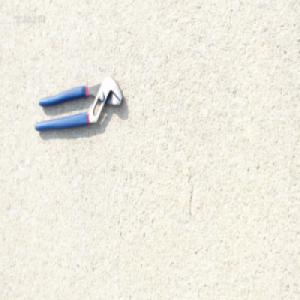Pliers: (33, 73, 123, 133)
